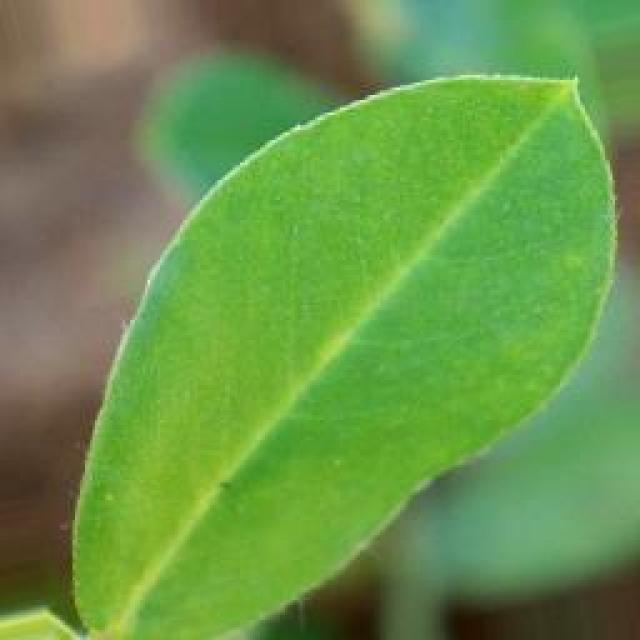Yellow_and_black_sigatoka: (66, 65, 621, 640)
